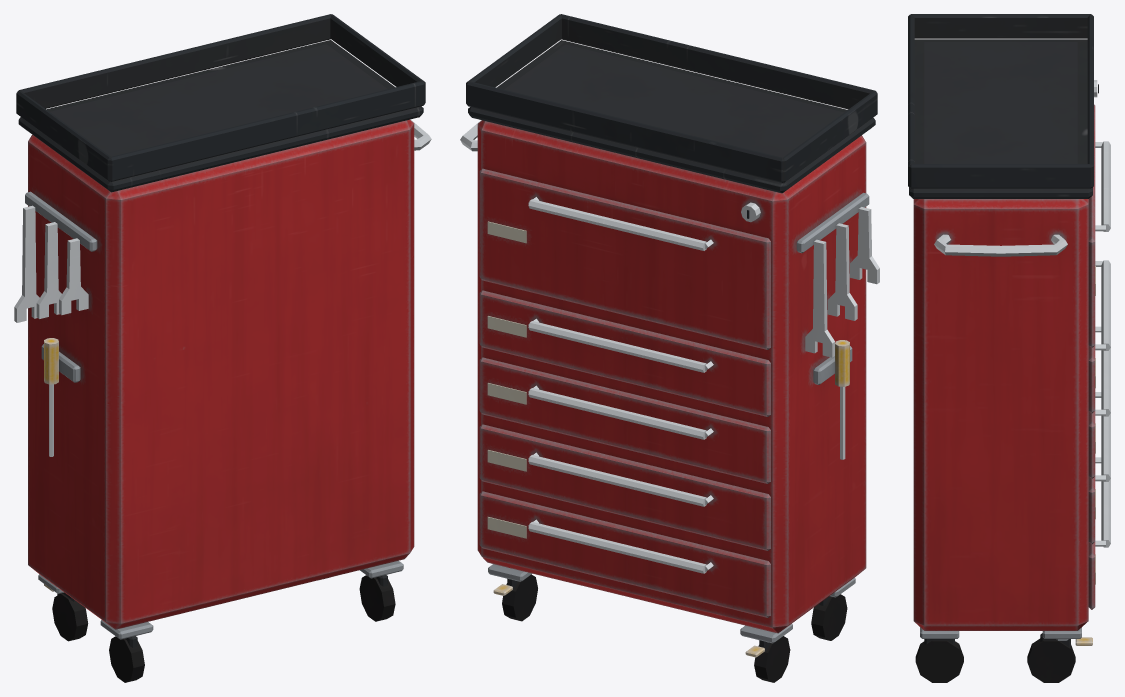
File: caja_herramientas_hangar.fbx
The picture shows the model from 3 angles, left to right: view 1: azimuth 30°, elevation 25°; view 2: azimuth 150°, elevation 25°; view 3: azimuth 270°, elevation 25°; orthographic projection. The views are drawn at different scales.
Parts seen in each view (by area): view 1: caja_herramientas_hangar; view 2: caja_herramientas_hangar, caja_herramientas_hangar_cajon_5, caja_herramientas_hangar_cajon_1, caja_herramientas_hangar_cajon_2, caja_herramientas_hangar_cajon_3, caja_herramientas_hangar_cajon_4; view 3: caja_herramientas_hangar, caja_herramientas_hangar_cajon_5, caja_herramientas_hangar_cajon_4, caja_herramientas_hangar_cajon_1, caja_herramientas_hangar_cajon_3, caja_herramientas_hangar_cajon_2.
Boxes of the visible parts, x1,y1,x2,y2 form: caja_herramientas_hangar: (14, 14, 431, 682); caja_herramientas_hangar: (460, 14, 879, 682); caja_herramientas_hangar_cajon_5: (479, 168, 770, 349); caja_herramientas_hangar_cajon_1: (479, 491, 770, 617); caja_herramientas_hangar_cajon_2: (479, 424, 770, 550); caja_herramientas_hangar_cajon_3: (479, 357, 770, 483); caja_herramientas_hangar_cajon_4: (479, 290, 770, 416); caja_herramientas_hangar: (908, 14, 1098, 682); caja_herramientas_hangar_cajon_5: (1088, 104, 1110, 347); caja_herramientas_hangar_cajon_4: (1088, 260, 1110, 413); caja_herramientas_hangar_cajon_1: (1088, 457, 1110, 609); caja_herramientas_hangar_cajon_3: (1088, 326, 1110, 478); caja_herramientas_hangar_cajon_2: (1088, 392, 1110, 544).
Bounding box in the file's own units: 1.91 × 2.67 × 0.927.
Materials: 1 (1 with a texture image).
